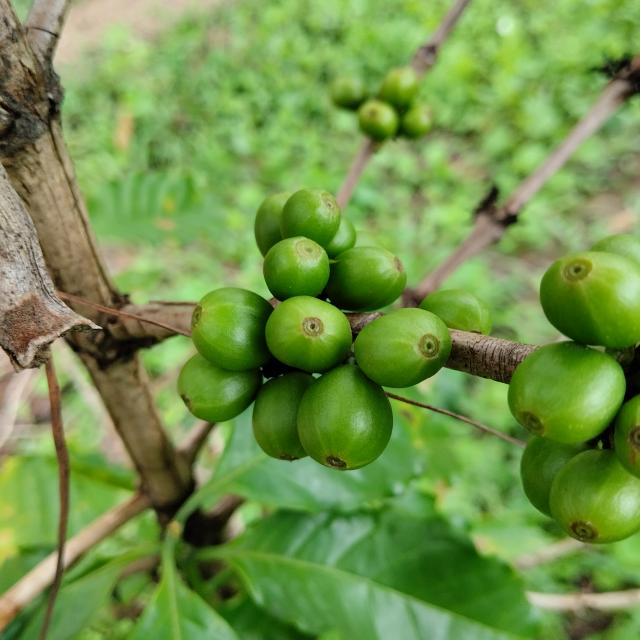green: (509, 341, 627, 444), (297, 365, 393, 471), (541, 251, 640, 349), (550, 450, 640, 544), (355, 308, 452, 388), (191, 288, 274, 371), (265, 296, 352, 373), (177, 353, 262, 423), (252, 372, 315, 462), (521, 436, 591, 517), (324, 246, 407, 312), (263, 236, 330, 301), (280, 188, 341, 247), (420, 289, 492, 335), (255, 192, 291, 257), (615, 395, 640, 479), (325, 215, 356, 259)
